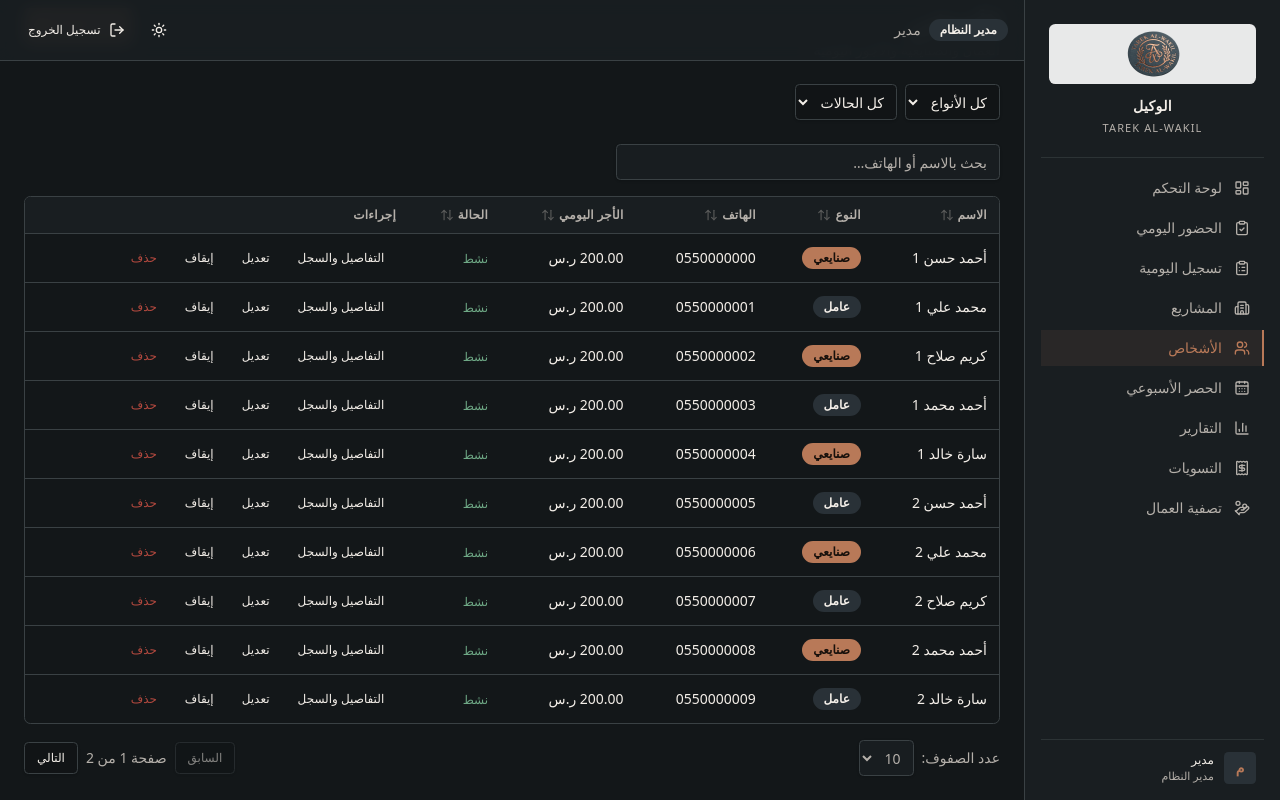
Scenario: PeoplePage data table › paginates when rows exceed the page size
(page scrolled)
Expected: the text "صفحة 1 من 2" is shown, [86,748,166,768]
Click the button "التالي".
click(51, 758)  # box [24,742,78,774]
(page scrolled)
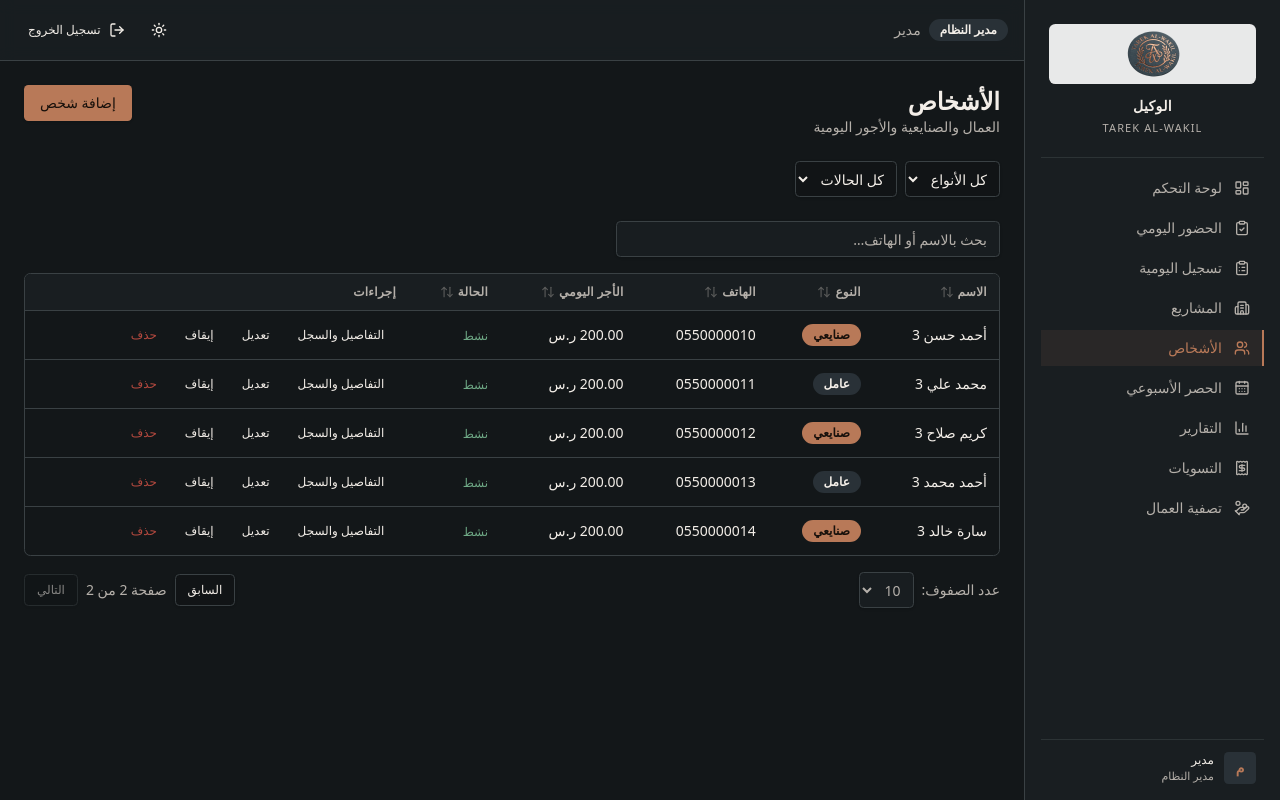
Result: the text "صفحة 2 من 2" is shown at [86,580,166,600]
